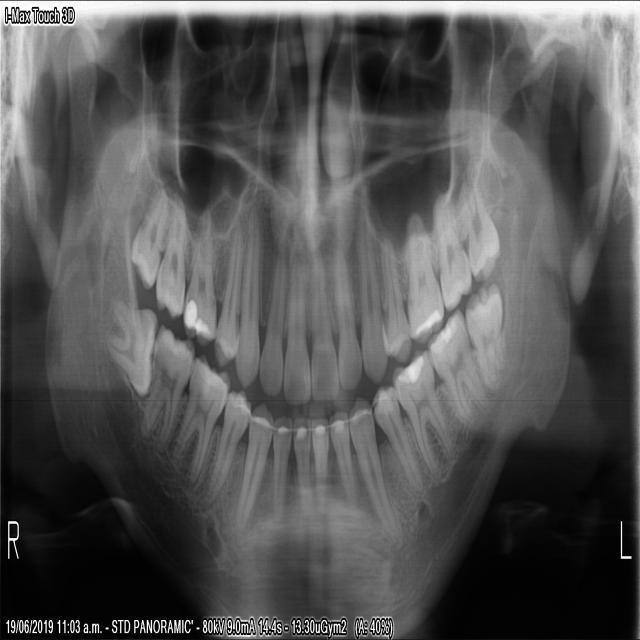LCD: (345, 391, 403, 552), (356, 236, 388, 386)
LID: (327, 405, 362, 512), (311, 410, 330, 512)
LIU: (328, 246, 363, 391), (308, 255, 340, 402)
LMD: (422, 301, 493, 436), (461, 265, 511, 392)
LMU: (427, 180, 475, 313), (455, 174, 504, 285)
LPMD: (389, 342, 456, 476), (369, 380, 425, 495)
LPMU: (404, 229, 444, 345), (379, 233, 412, 360)
RCD: (230, 397, 274, 529)
RCU: (232, 219, 260, 392)
RID: (269, 410, 292, 511), (291, 416, 312, 502)
RIU: (257, 246, 289, 402), (280, 255, 310, 405)
RMD: (101, 285, 158, 395)
RMU: (128, 184, 170, 293), (152, 205, 187, 320)
RPMD: (164, 347, 231, 490), (133, 320, 195, 458), (203, 385, 251, 505)
RPMU: (210, 230, 243, 374), (179, 221, 216, 347)
